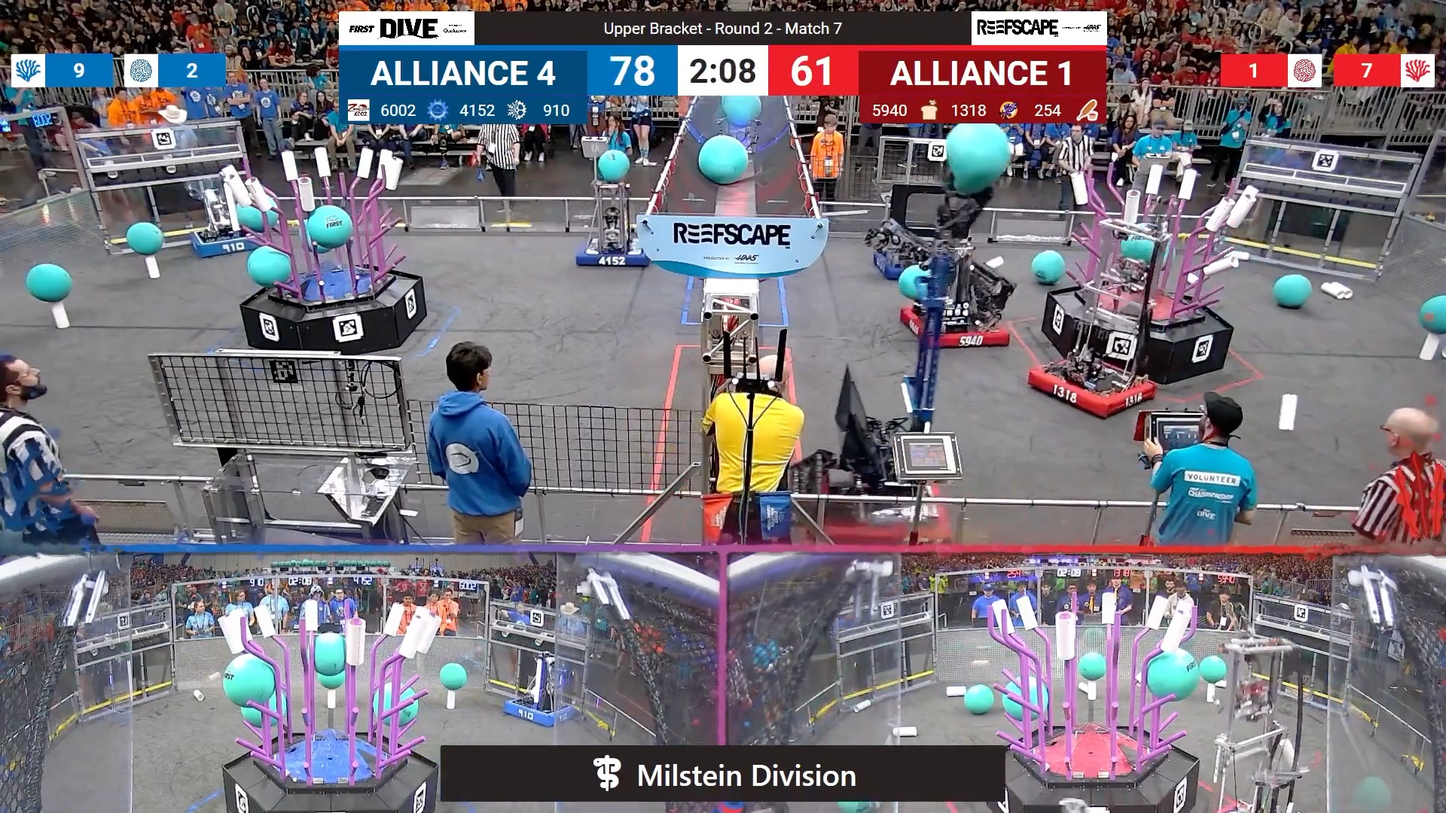bumpers: (802, 478, 958, 560), (1022, 357, 1165, 421), (897, 301, 1022, 354), (858, 245, 960, 289), (184, 223, 272, 261), (570, 235, 658, 272), (498, 696, 580, 732)
